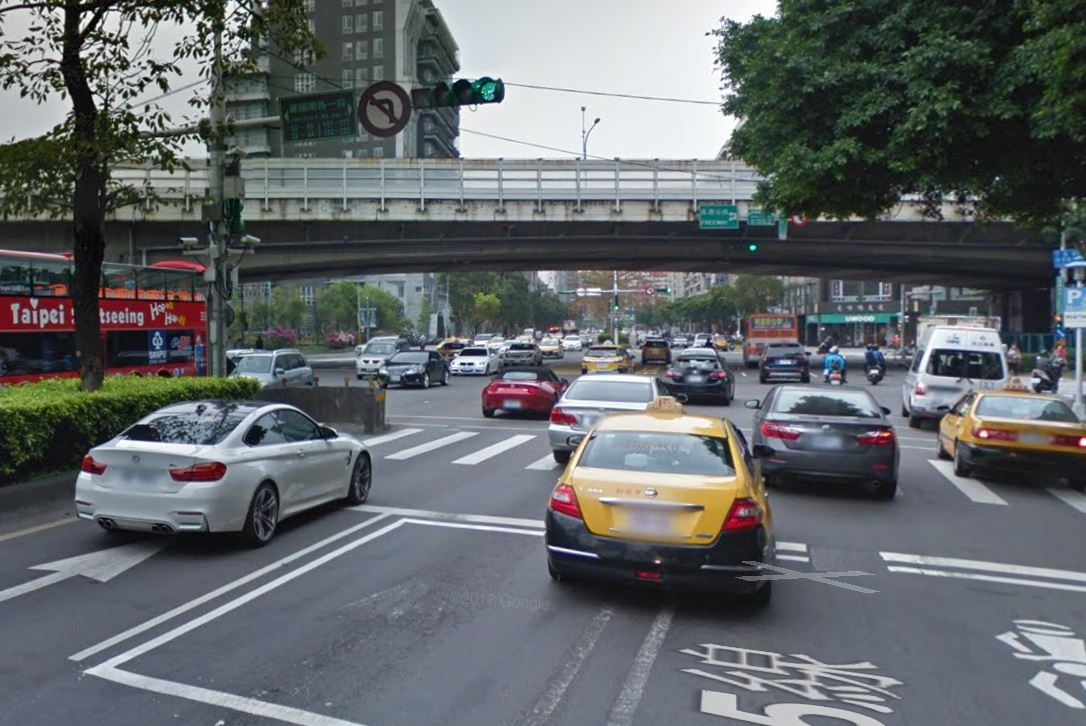No_left_turn: (359, 81, 412, 136)
Traffic_light_green: (432, 77, 502, 106)
